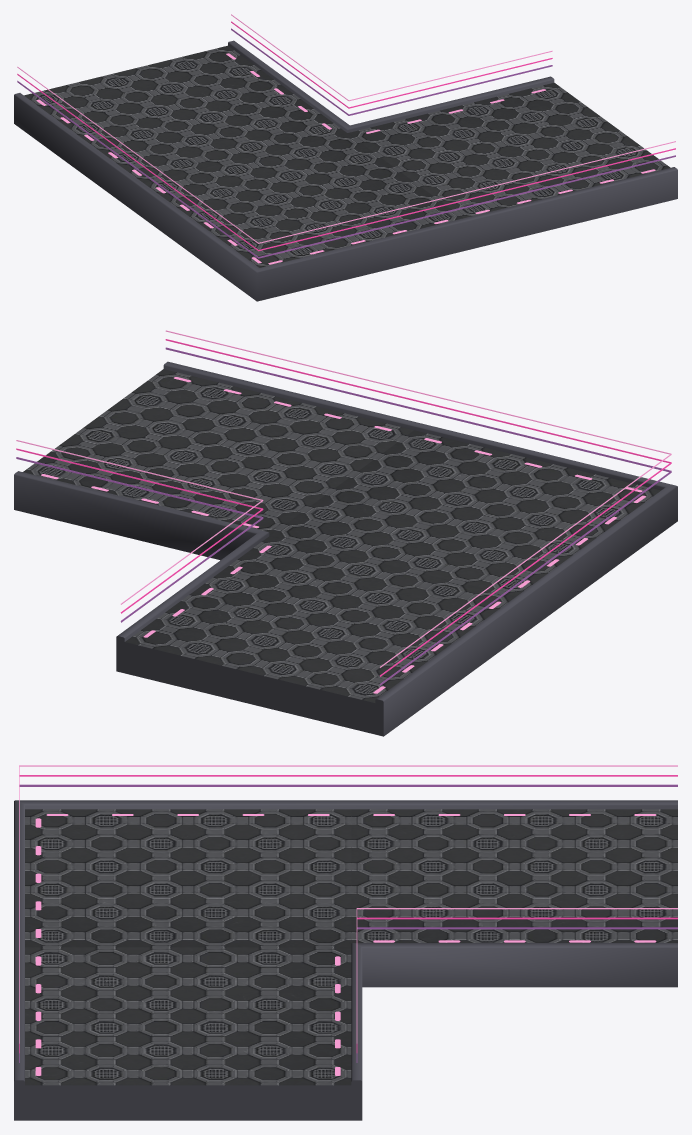
The model's file is tile-turn.glb.
3 views of the same model, one above another, from view 1: azimuth 30°, elevation 25°; view 2: azimuth 150°, elevation 25°; view 3: azimuth 270°, elevation 25° (orthographic). The views are drawn at different scales.
Parts seen in each view (by area): view 1: Platform1_4; view 2: Platform1_4; view 3: Platform1_4.
Boxes of the visible parts, <box> form: Platform1_4: <box>14,14,677,301</box>; Platform1_4: <box>14,330,677,736</box>; Platform1_4: <box>14,765,677,1120</box>.
Size of what is drawn, in the model's own units: 12.2 by 1.56 by 12.2.
Materials: 3 (3 with a texture image).
